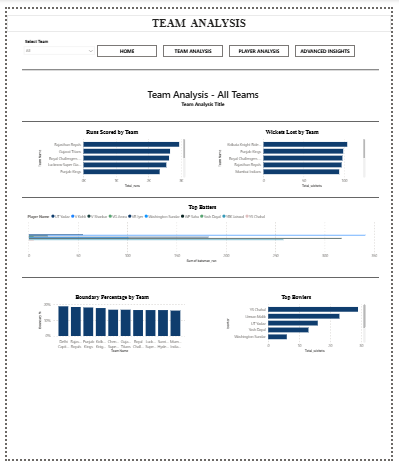

This screenshot's page, from the dashboard's own definition file:
{"tool":"powerbi","page":{"name":"Team Analysis","canvas":[1280,1500],"ordinal":1},"visuals":[{"type":"textbox","box":[0,18.5,1280,57.1],"z":0},{"type":"cardVisual","fields":{"Data":["Measure_Table.Team Analysis Title"]},"box":[372,240.7,536.1,99.8],"z":1000},{"type":"clusteredBarChart","title":"Runs Scored by Team","fields":{"Category":["Dim_Team.Team Name"],"Y":["Measure_Table.Total_runs"]},"box":[100,400,500,200],"z":2000},{"type":"clusteredBarChart","title":"Top Batters","fields":{"Y":["Sum(IPL_Data.batsman_run)"],"Series":["Dim_Player.Player Name"]},"box":[64.4,649.6,1175.5,200.3],"z":3000},{"type":"barChart","title":"Wickets Lost by Team","fields":{"Category":["Dim_Team.Team Name"],"Y":["Measure_Table.Total_wickets"]},"box":[700,400,500,200],"z":4000},{"type":"clusteredColumnChart","title":"Boundary Percentage by Team","fields":{"Category":["Dim_Team.Team Name"],"Y":["Measure_Table.Boundary %"]},"box":[100,950,500,200],"z":5000},{"type":"shape","box":[49.6,163.4,1190,78.3],"z":6000},{"type":"shape","box":[49.6,300,1190,150],"z":7000},{"type":"shape","box":[50,554.3,1190,150],"z":8000},{"type":"shape","box":[50,818.3,1190,150],"z":9000},{"type":"slicer","fields":{"Values":["Dim_Team.Team Name"]},"box":[45.4,96.4,255.1,82.2],"z":10000},{"type":"clusteredBarChart","title":"Top Bowlers","fields":{"Y":["Measure_Table.Total_wickets"],"Category":["IPL_Data.bowler"]},"box":[726.2,950.9,473.7,200.3],"z":11000},{"type":"actionButton","box":[300,120,200,40.1],"z":12000},{"type":"actionButton","box":[960,120,200,40.1],"z":13000},{"type":"actionButton","box":[740,120,200,40.1],"z":14000},{"type":"actionButton","box":[520,120,200,40.1],"z":15000}]}

Visuals, with their boxes in screenshot pixels (x1, y1, x2, y2), scaled from the page's 1280x1500 canvas onto the 399x465 screenshot:
textbox: x1=0, y1=6, x2=398, y2=23
cardVisual - Measure_Table.Team Analysis Title: x1=116, y1=75, x2=283, y2=106
"Runs Scored by Team" clusteredBarChart: x1=31, y1=124, x2=187, y2=186
"Top Batters" clusteredBarChart: x1=20, y1=201, x2=387, y2=263
"Wickets Lost by Team" barChart: x1=218, y1=124, x2=374, y2=186
"Boundary Percentage by Team" clusteredColumnChart: x1=31, y1=294, x2=187, y2=356
shape: x1=15, y1=51, x2=386, y2=75
shape: x1=15, y1=93, x2=386, y2=140
shape: x1=16, y1=172, x2=387, y2=218
shape: x1=16, y1=254, x2=387, y2=300
slicer - Dim_Team.Team Name: x1=14, y1=30, x2=94, y2=55
"Top Bowlers" clusteredBarChart: x1=226, y1=295, x2=374, y2=357
actionButton: x1=94, y1=37, x2=156, y2=50
actionButton: x1=299, y1=37, x2=362, y2=50
actionButton: x1=231, y1=37, x2=293, y2=50
actionButton: x1=162, y1=37, x2=224, y2=50
